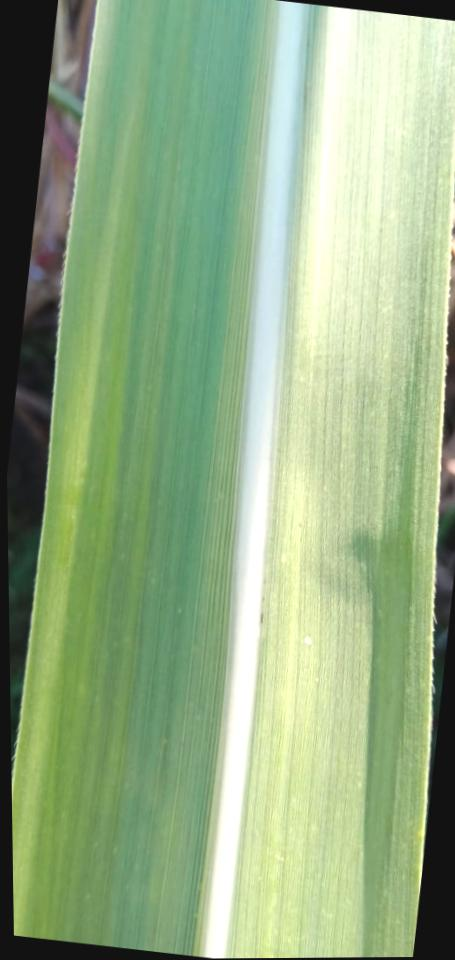Healthy: (12, 0, 455, 958)
